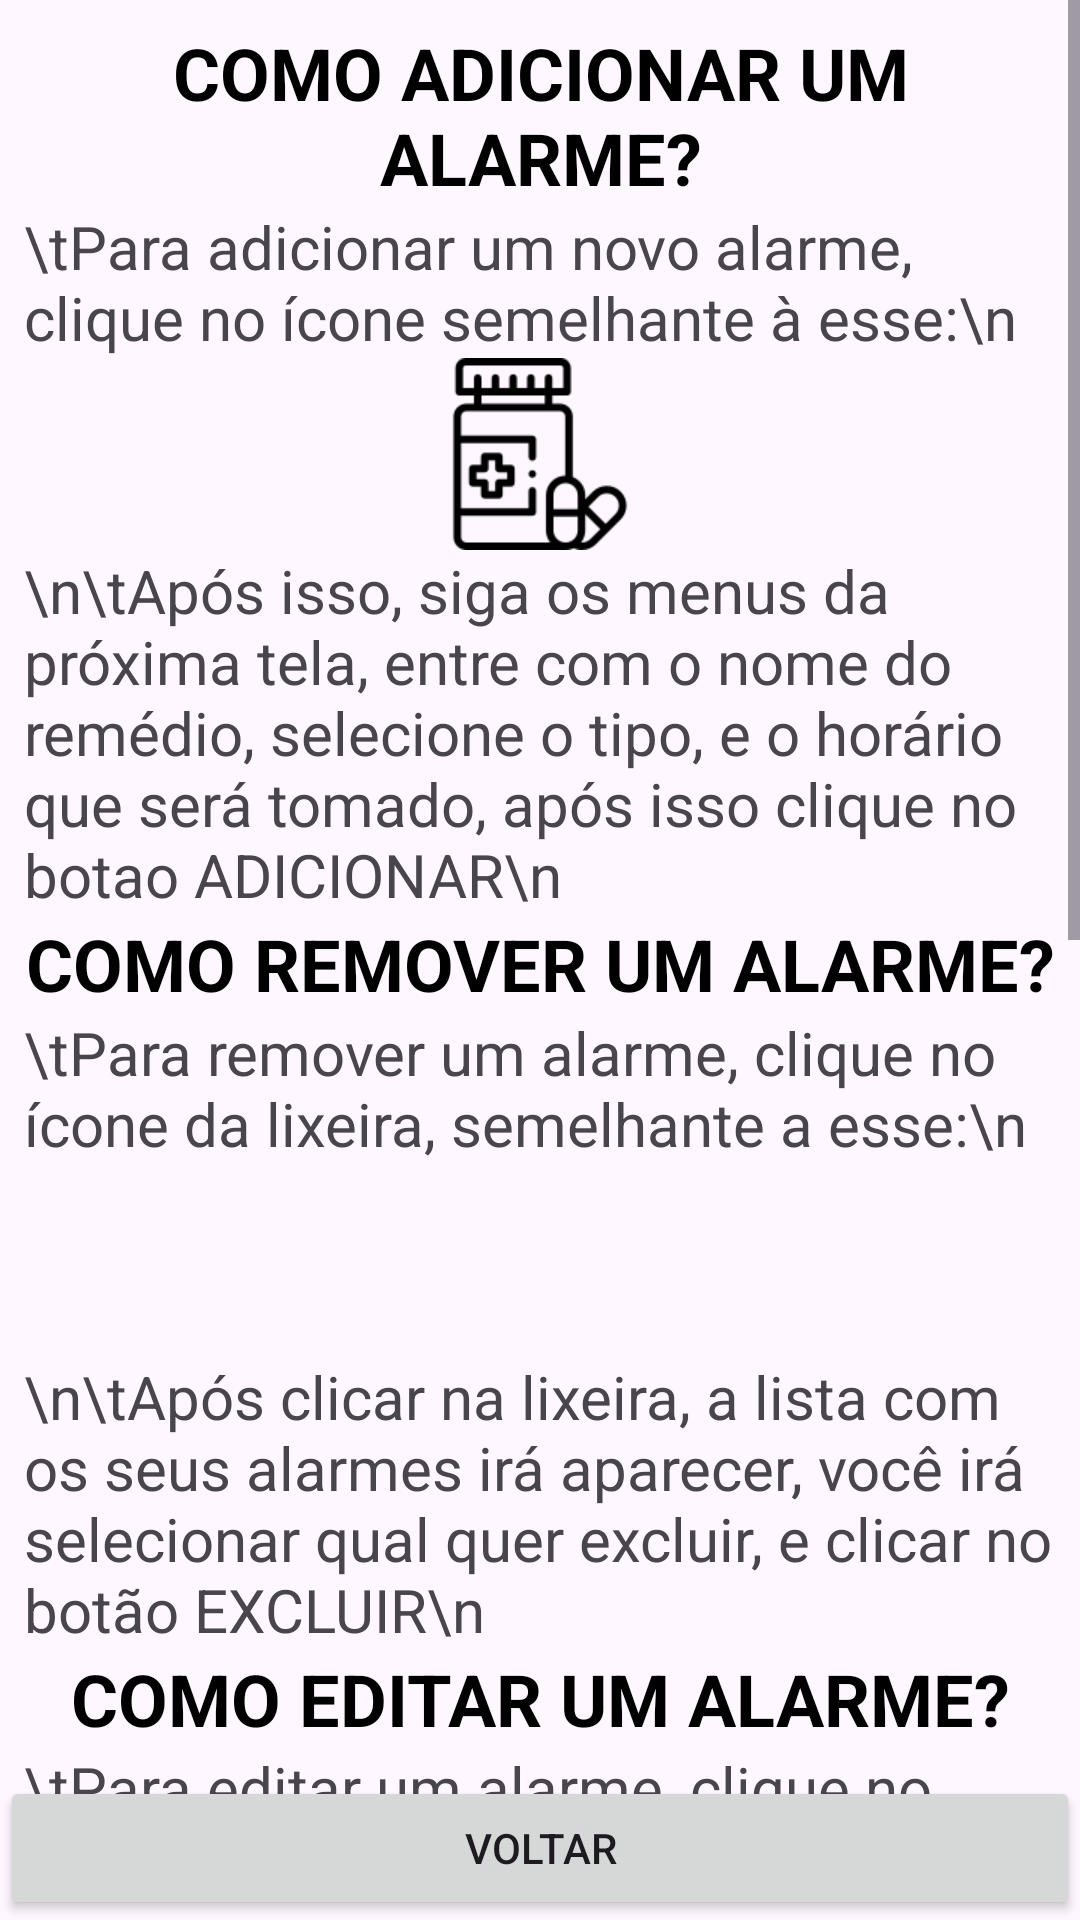

Locate icon controls on the screen. Image size 1080px x 1920px, boxes as region(x1, y1, x2, y2).
antibiotic: region(452, 358, 627, 550)
